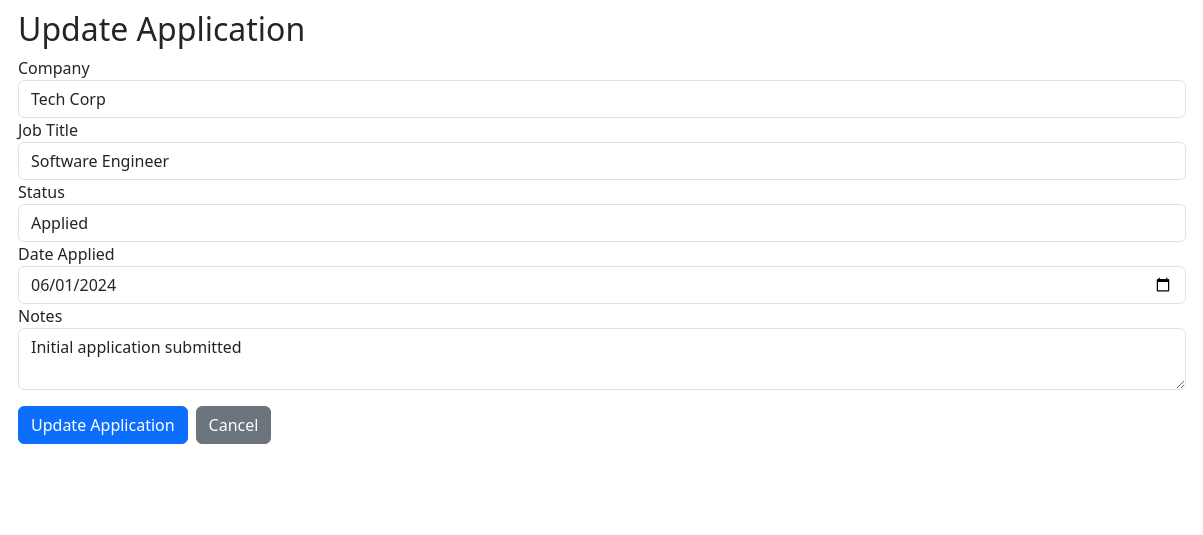
Test: ApplicationUpdateForm › handles API error on form submission
The width and height of the screenshot is (1203, 535).
Click the button "Update Application" at (103, 425), box [18, 406, 188, 444]
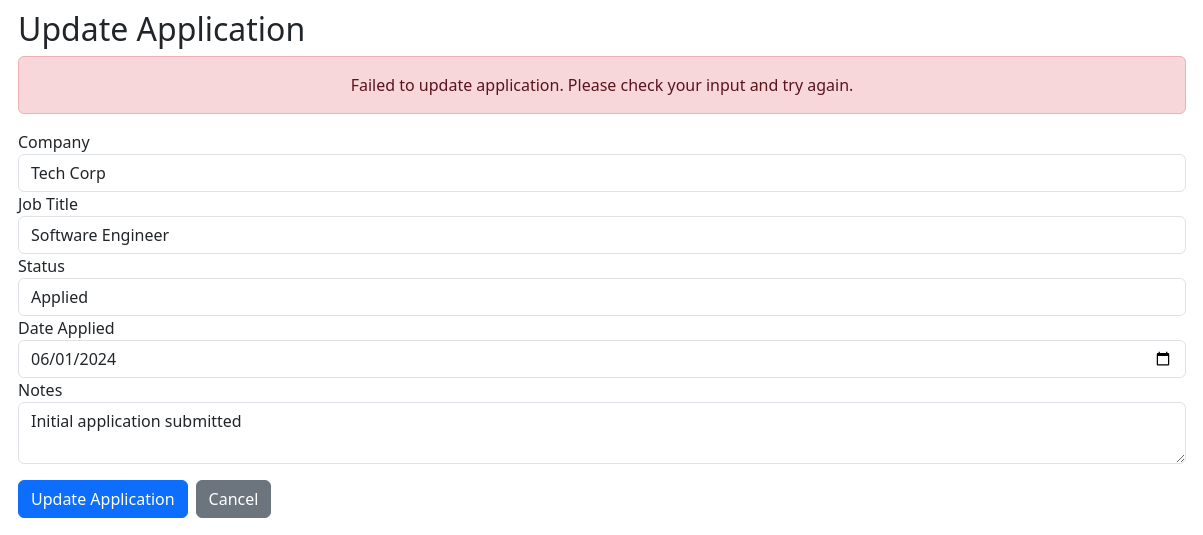
expect the text "Failed to update application. Please check your input and try again." is shown: met, box [18, 56, 1186, 114]
